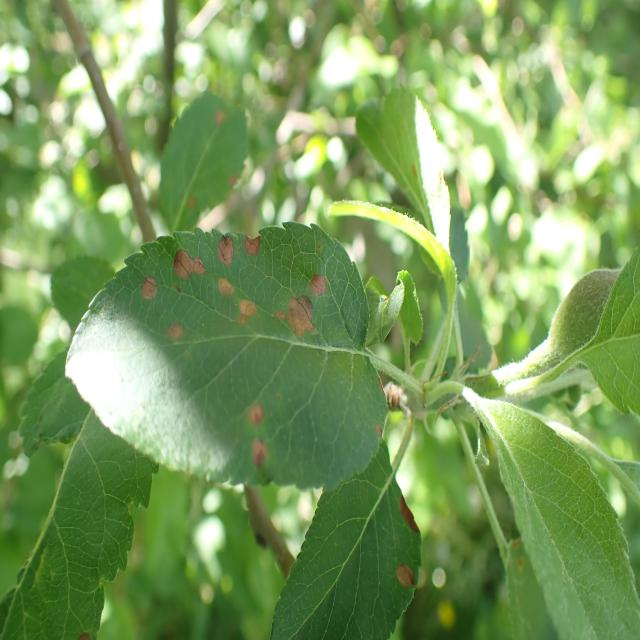Black Rot: (268, 281, 318, 348), (160, 241, 207, 291), (213, 208, 242, 276), (238, 440, 280, 482), (384, 550, 420, 597), (395, 484, 426, 536), (234, 219, 269, 262), (134, 254, 160, 311), (237, 396, 275, 435), (233, 300, 264, 342), (162, 313, 192, 356), (308, 265, 337, 304), (209, 272, 243, 304)
